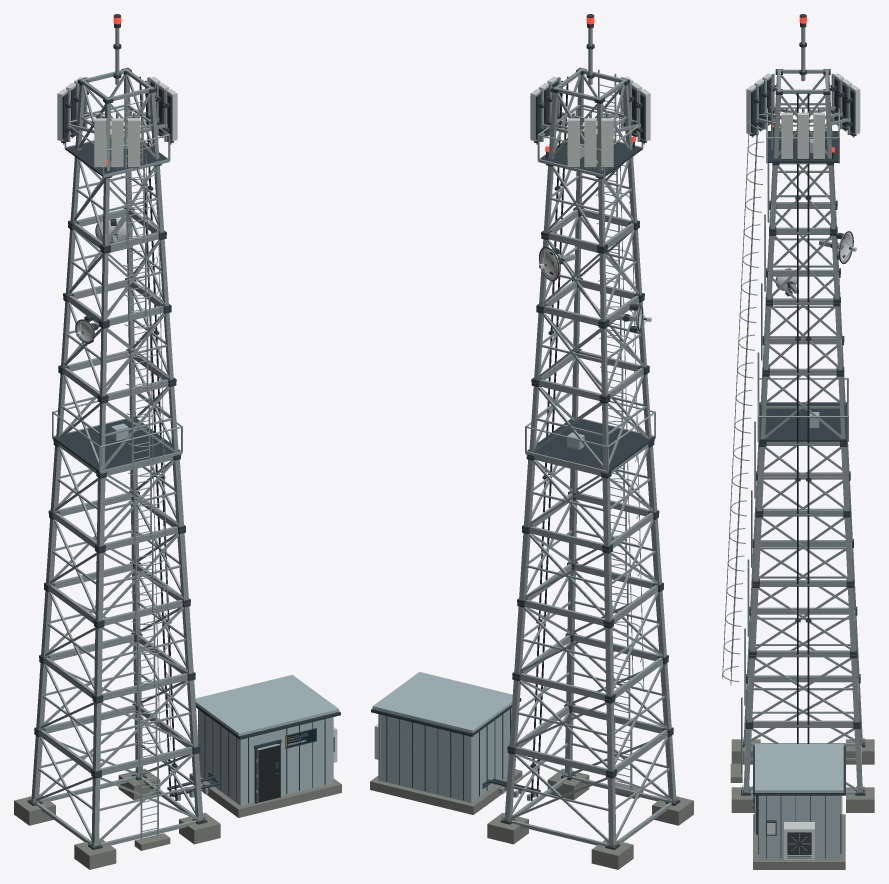
The model's file is PZ_CellTower_AntennaRacks.glb.
3 views of the same model, side by side, from view 1: azimuth 30°, elevation 25°; view 2: azimuth 150°, elevation 25°; view 3: azimuth 270°, elevation 25° (orthographic). The views are drawn at different scales.
Visible parts, largest first — view 1: RENDER_Shelter_RoofSandwichPanel_ShelterCladding, RENDER_Foundation_Concrete_PierPads_ConcreteFoundation, RENDER_Shelter_SouthWall_Right_ShelterCladding, RENDER_Shelter_WestWall_ShelterCladding, RENDER_Ladder_Cage_LongitudinalRails_GalvanizedSteel, RENDER_Bay_00_PerimeterRingBeams_GalvanizedSteel, RENDER_Bay_01_PerimeterRingBeams_GalvanizedSteel, RENDER_Bay_00_DiagonalCrossBraces_GalvanizedSteel, RENDER_Bay_02_PerimeterRingBeams_GalvanizedSteel, RENDER_Bay_01_DiagonalCrossBraces_GalvanizedSteel, RENDER_Bay_03_PerimeterRingBeams_GalvanizedSteel, RENDER_Bay_02_DiagonalCrossBraces_GalvanizedSteel (+37 smaller); view 2: RENDER_Shelter_NorthWall_ShelterCladding, RENDER_Shelter_RoofSandwichPanel_ShelterCladding, RENDER_Foundation_Concrete_PierPads_ConcreteFoundation, RENDER_Bay_00_PerimeterRingBeams_GalvanizedSteel, RENDER_Bay_01_PerimeterRingBeams_GalvanizedSteel, RENDER_Shelter_WestWall_ShelterCladding, RENDER_Bay_00_DiagonalCrossBraces_GalvanizedSteel, RENDER_Bay_02_PerimeterRingBeams_GalvanizedSteel, RENDER_Bay_01_DiagonalCrossBraces_GalvanizedSteel, RENDER_Bay_03_PerimeterRingBeams_GalvanizedSteel, RENDER_Bay_02_DiagonalCrossBraces_GalvanizedSteel, RENDER_Bay_03_CornerLegs_GalvanizedSteel (+34 smaller); view 3: RENDER_Shelter_RoofSandwichPanel_ShelterCladding, RENDER_Shelter_EastWall_ShelterCladding, RENDER_Foundation_Concrete_PierPads_ConcreteFoundation, RENDER_Ladder_Cage_LongitudinalRails_GalvanizedSteel, RENDER_FiberCoax_2_VerticalConduit_RubberWeatherSeal, RENDER_Bay_01_PerimeterRingBeams_GalvanizedSteel, RENDER_Maintenance_15m_PlatformSlab_East_GraphitePowdercoat, RENDER_Shelter_ConcreteBase_ConcreteFoundation, RENDER_Bay_02_PerimeterRingBeams_GalvanizedSteel, RENDER_Bay_01_DiagonalCrossBraces_GalvanizedSteel, RENDER_Maintenance_15m_PlatformSlab_West_GraphitePowdercoat, RENDER_FiberCoax_1_VerticalConduit_RubberWeatherSeal (+44 smaller).
Boxes of the visible parts, x1,y1,x2,y2 form: RENDER_Shelter_RoofSandwichPanel_ShelterCladding: (195, 675, 339, 735); RENDER_Foundation_Concrete_PierPads_ConcreteFoundation: (14, 768, 220, 869); RENDER_Shelter_SouthWall_Right_ShelterCladding: (277, 717, 333, 795); RENDER_Shelter_WestWall_ShelterCladding: (198, 710, 240, 805); RENDER_Ladder_Cage_LongitudinalRails_GalvanizedSteel: (126, 146, 170, 747); RENDER_Bay_00_PerimeterRingBeams_GalvanizedSteel: (36, 709, 196, 845); RENDER_Bay_01_PerimeterRingBeams_GalvanizedSteel: (40, 638, 192, 772); RENDER_Bay_00_DiagonalCrossBraces_GalvanizedSteel: (35, 712, 197, 842); RENDER_Bay_02_PerimeterRingBeams_GalvanizedSteel: (45, 567, 187, 697); RENDER_Bay_01_DiagonalCrossBraces_GalvanizedSteel: (40, 641, 192, 767); RENDER_Bay_03_PerimeterRingBeams_GalvanizedSteel: (50, 496, 182, 622); RENDER_Bay_02_DiagonalCrossBraces_GalvanizedSteel: (45, 570, 187, 692); RENDER_Shelter_NorthWall_ShelterCladding: (378, 714, 472, 802); RENDER_Shelter_RoofSandwichPanel_ShelterCladding: (372, 672, 512, 733); RENDER_Foundation_Concrete_PierPads_ConcreteFoundation: (487, 768, 693, 869); RENDER_Bay_00_PerimeterRingBeams_GalvanizedSteel: (511, 709, 671, 845); RENDER_Bay_01_PerimeterRingBeams_GalvanizedSteel: (515, 638, 667, 772); RENDER_Shelter_WestWall_ShelterCladding: (472, 708, 511, 801); RENDER_Bay_00_DiagonalCrossBraces_GalvanizedSteel: (510, 712, 672, 842); RENDER_Bay_02_PerimeterRingBeams_GalvanizedSteel: (520, 567, 662, 697); RENDER_Bay_01_DiagonalCrossBraces_GalvanizedSteel: (515, 641, 667, 767); RENDER_Bay_03_PerimeterRingBeams_GalvanizedSteel: (525, 496, 658, 622); RENDER_Bay_02_DiagonalCrossBraces_GalvanizedSteel: (519, 570, 662, 692); RENDER_Bay_03_CornerLegs_GalvanizedSteel: (519, 500, 661, 621); RENDER_Shelter_RoofSandwichPanel_ShelterCladding: (755, 744, 843, 792); RENDER_Shelter_EastWall_ShelterCladding: (759, 795, 838, 859); RENDER_Foundation_Concrete_PierPads_ConcreteFoundation: (731, 739, 874, 812); RENDER_Ladder_Cage_LongitudinalRails_GalvanizedSteel: (722, 126, 757, 685); RENDER_FiberCoax_2_VerticalConduit_RubberWeatherSeal: (807, 93, 809, 743); RENDER_Bay_01_PerimeterRingBeams_GalvanizedSteel: (748, 611, 858, 725); RENDER_Maintenance_15m_PlatformSlab_East_GraphitePowdercoat: (758, 421, 846, 441); RENDER_Shelter_ConcreteBase_ConcreteFoundation: (753, 814, 845, 869); RENDER_Bay_02_PerimeterRingBeams_GalvanizedSteel: (751, 544, 855, 654); RENDER_Bay_01_DiagonalCrossBraces_GalvanizedSteel: (748, 615, 857, 720); RENDER_Maintenance_15m_PlatformSlab_West_GraphitePowdercoat: (759, 402, 846, 421); RENDER_FiberCoax_1_VerticalConduit_RubberWeatherSeal: (797, 93, 798, 743).
Bounding box in the file's own units: 11.95 × 33.35 × 6.01.
9 materials, 7 textured.
